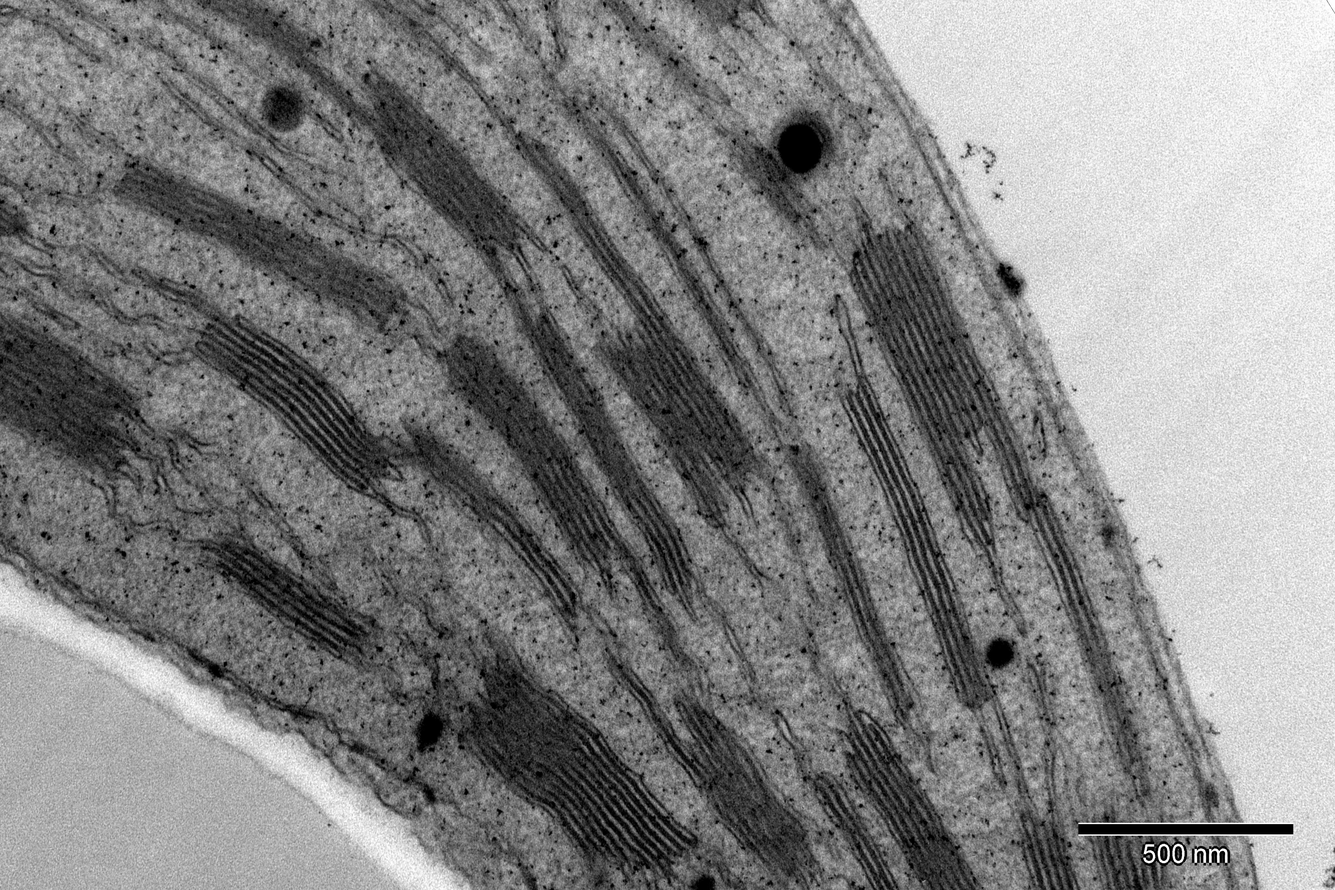granum: (516, 140, 778, 533), (457, 633, 701, 888), (985, 414, 1151, 778), (107, 150, 411, 342), (845, 218, 1015, 560), (514, 304, 706, 601), (834, 376, 1001, 717), (432, 328, 646, 574), (776, 435, 927, 731), (188, 310, 414, 498), (407, 415, 586, 628), (353, 55, 527, 265), (610, 165, 765, 397), (666, 681, 831, 890), (188, 517, 377, 672), (836, 706, 989, 890), (0, 299, 147, 488), (799, 764, 901, 890), (719, 127, 828, 240), (187, 0, 333, 82), (1003, 792, 1086, 890), (1075, 813, 1176, 890), (676, 0, 767, 37), (0, 191, 30, 239)
